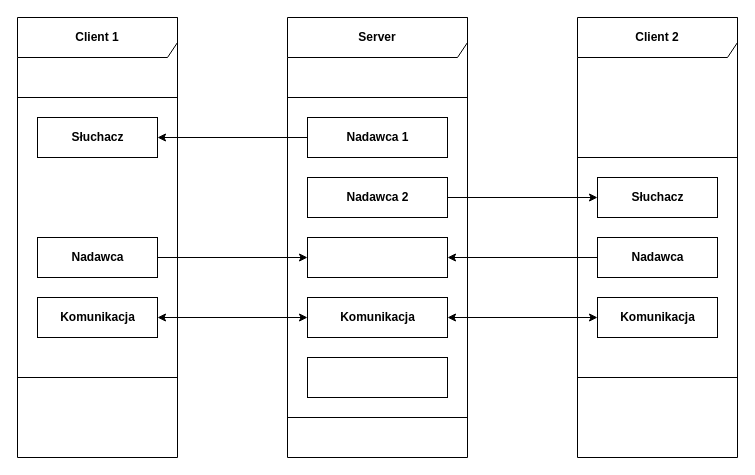
This 755x475 diagram has some shape labels left out. Here are the shapes that lost their labels. From the top down, the centre of each, then its label:
pixel 377 257: Słuchacz (tylko 1 połączenie aktywne)
pixel 377 377: Nadawca priorytetowy
